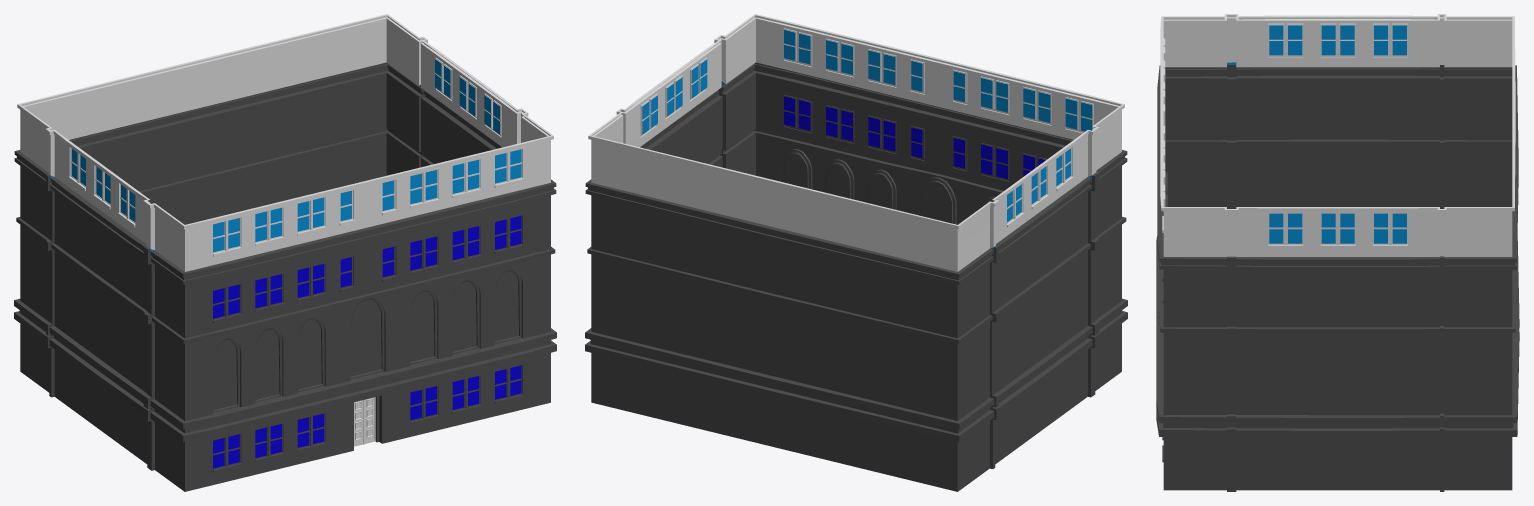
Rendered from FBX_politieBureau.fbx.
3 renders of one model, left to right at view 1: azimuth 30°, elevation 25°; view 2: azimuth 150°, elevation 25°; view 3: azimuth 270°, elevation 25°, orthographic. The views are drawn at different scales.
Parts seen in each view (by area): view 1: PolitieBureau_Low, PolitieBureau_Top, PolitieBureau_Door; view 2: PolitieBureau_Low, PolitieBureau_Top; view 3: PolitieBureau_Low, PolitieBureau_Top.
Boxes of the visible parts, x1,y1,x2,y2 form: PolitieBureau_Low: (14, 62, 556, 491); PolitieBureau_Top: (17, 14, 553, 271); PolitieBureau_Door: (354, 397, 375, 446); PolitieBureau_Low: (585, 62, 1127, 491); PolitieBureau_Top: (588, 14, 1124, 271); PolitieBureau_Low: (1156, 65, 1519, 491); PolitieBureau_Top: (1160, 14, 1515, 256).
Size of the model in its own units: 26.7 by 17.91 by 20.8.
